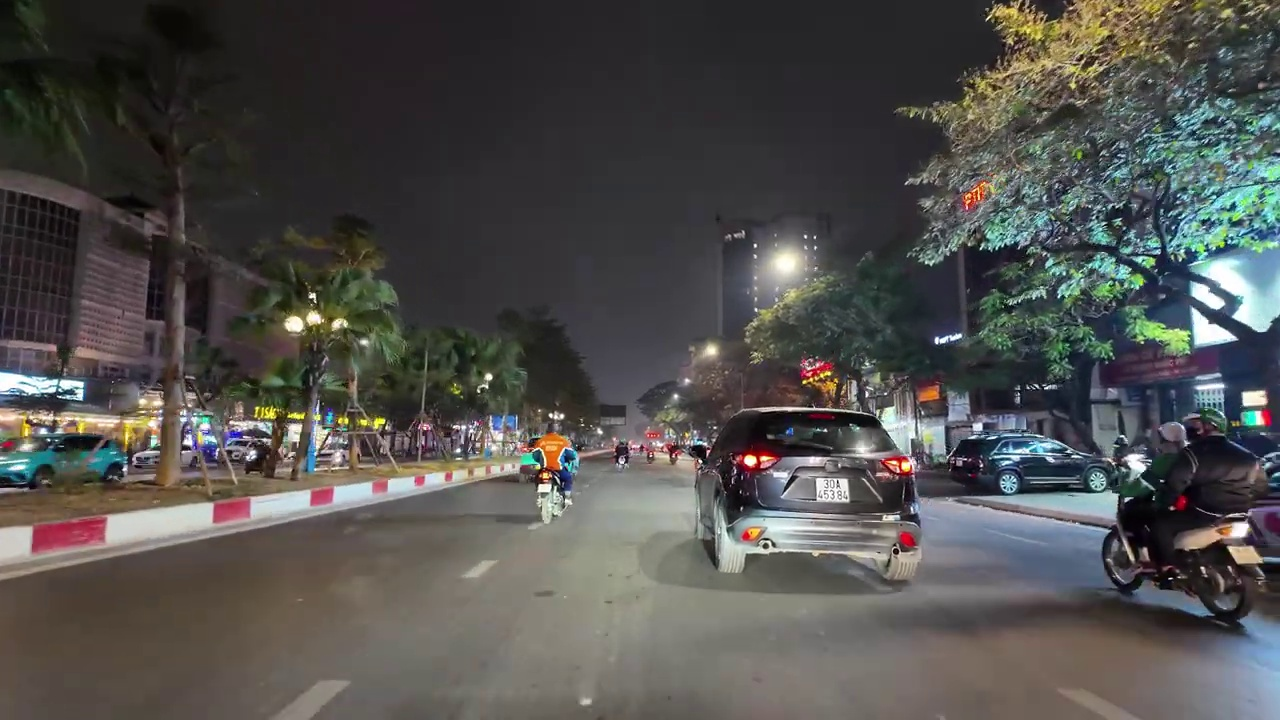acesa: (769, 247, 803, 279), (694, 340, 721, 363)
